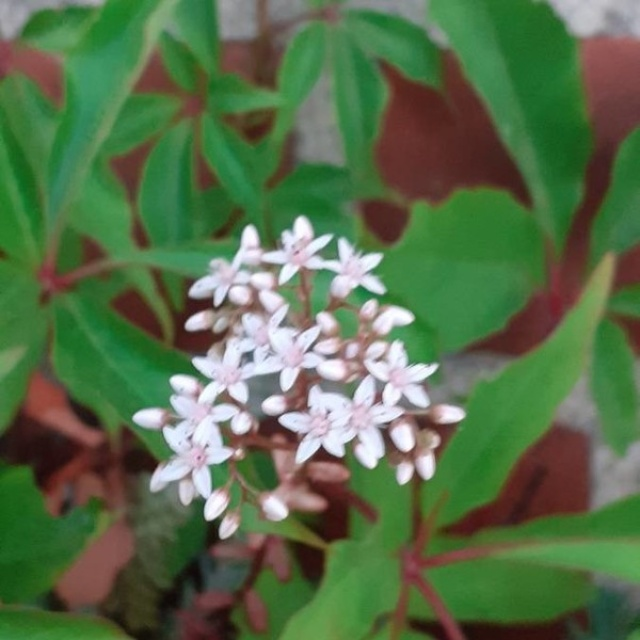obstacle: (224, 28, 581, 459), (143, 206, 448, 544), (16, 39, 219, 436)
